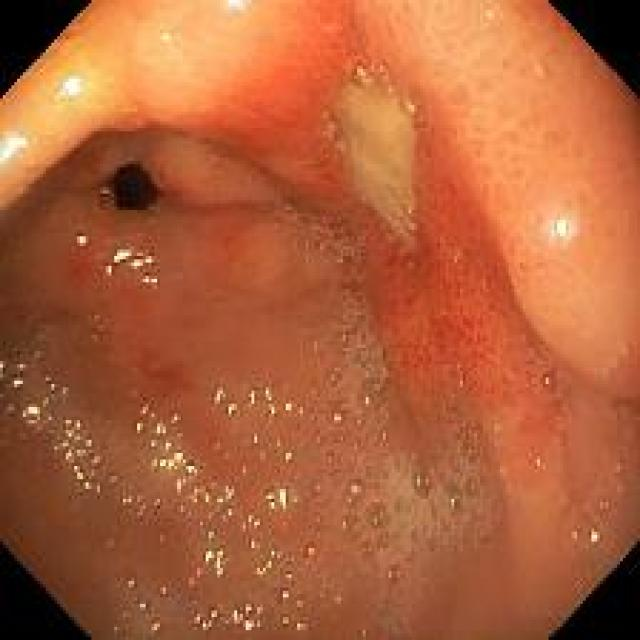bubbles: (295, 287, 503, 640), (274, 198, 370, 285), (567, 491, 620, 596), (519, 350, 562, 404), (347, 60, 379, 93), (396, 202, 421, 238), (96, 192, 115, 217)
specularity: (54, 420, 94, 490), (150, 455, 198, 492), (2, 139, 27, 162), (196, 612, 218, 631), (194, 486, 210, 505), (25, 405, 40, 424), (219, 487, 234, 504), (66, 80, 81, 96), (255, 564, 273, 577), (216, 551, 224, 578), (558, 222, 567, 238), (216, 389, 226, 402), (205, 550, 214, 564), (234, 611, 244, 623), (116, 253, 130, 261), (226, 4, 247, 9), (282, 492, 288, 509), (157, 424, 167, 434), (592, 532, 600, 544), (269, 494, 275, 508), (246, 623, 255, 631), (142, 407, 150, 416), (164, 441, 171, 450), (123, 497, 132, 504), (350, 486, 357, 494), (229, 405, 236, 413), (139, 604, 147, 611), (267, 389, 272, 400), (251, 393, 256, 404), (145, 279, 158, 283), (164, 36, 172, 42), (271, 406, 276, 415), (173, 416, 179, 423), (19, 364, 26, 370), (79, 238, 87, 243), (134, 262, 142, 267), (253, 437, 258, 445), (286, 404, 292, 410), (113, 477, 119, 483), (342, 523, 346, 532), (15, 380, 20, 387), (229, 510, 234, 517), (211, 532, 216, 539), (138, 424, 142, 432), (251, 541, 255, 549), (536, 460, 540, 468), (310, 549, 316, 554), (51, 386, 56, 392), (247, 607, 252, 613), (129, 580, 135, 585), (418, 478, 422, 485), (147, 258, 152, 263), (284, 594, 289, 599), (271, 551, 275, 557), (152, 441, 156, 447), (288, 454, 292, 459), (285, 620, 289, 625), (250, 517, 253, 523), (336, 418, 340, 422), (546, 380, 550, 384), (109, 269, 112, 274), (367, 400, 370, 405), (256, 521, 258, 528), (94, 459, 100, 461), (451, 500, 454, 504), (318, 486, 320, 492), (47, 379, 51, 380)
